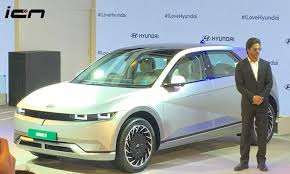Honda Ioniq: (10, 35, 233, 171)
